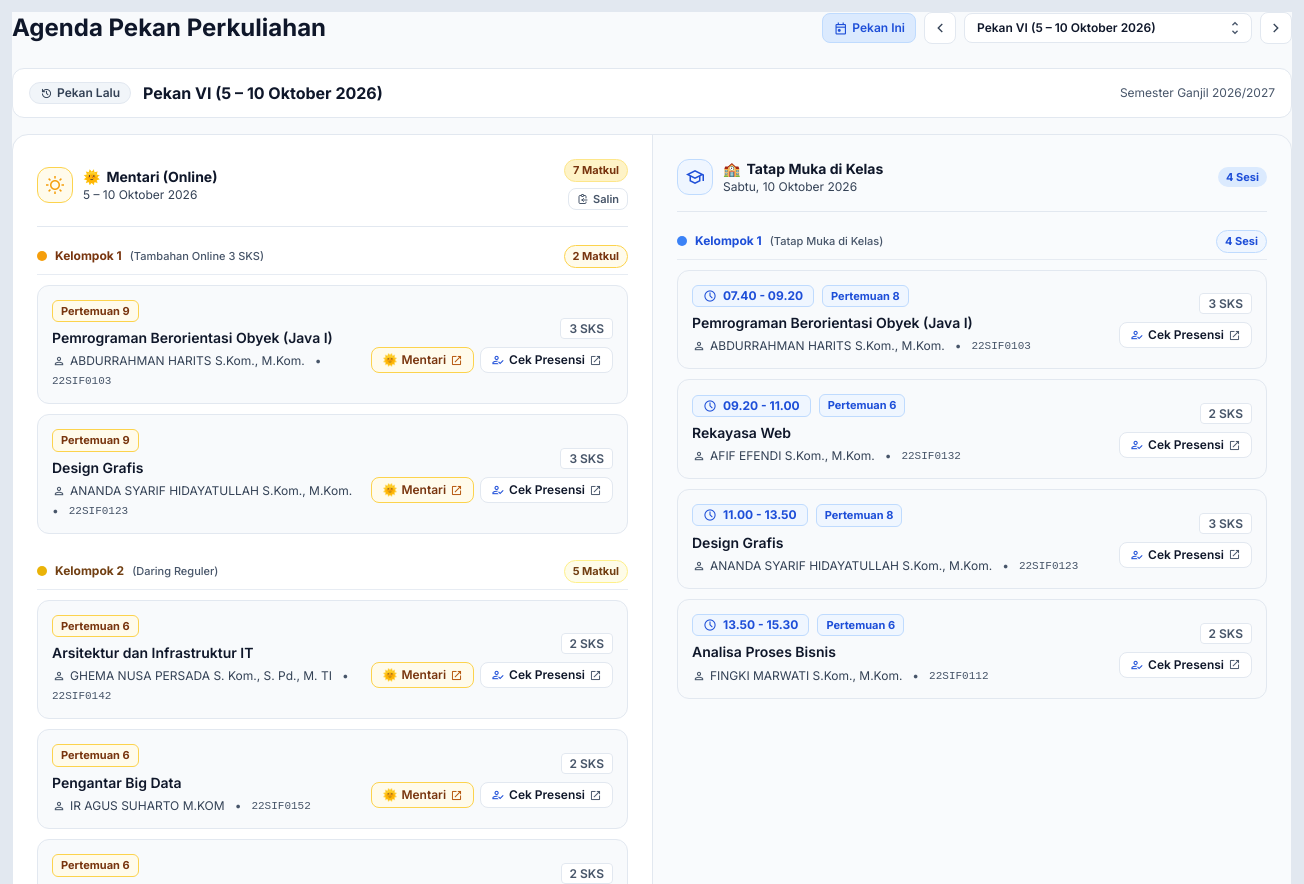
Test case: ScheduleSection.vue › should render Mentari copy button for admin and copy formatted text
Click the button with aria-label "Salin jadwal Mentari pekan ini". click: click(598, 199)
box: [568,188,628,210]
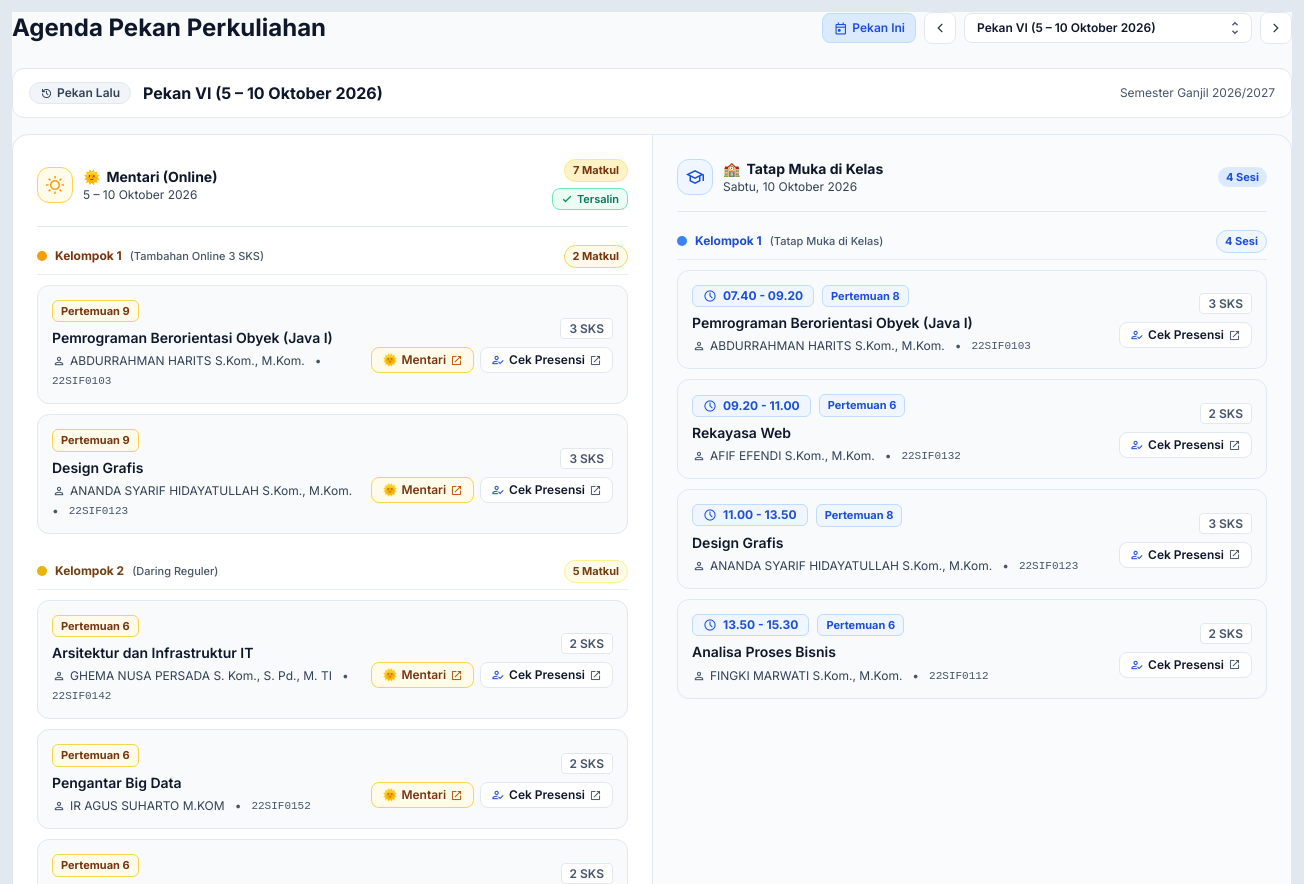
Expected: the text "Tersalin" is shown, [577,190,619,207]
